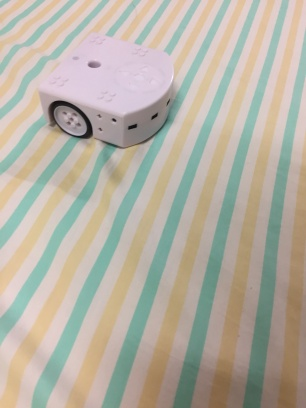thymio: (31, 27, 182, 158)
